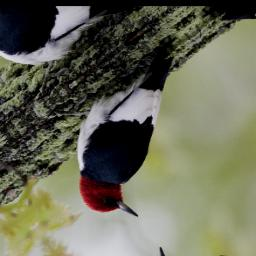Woodpecker: (31, 28, 248, 245)
